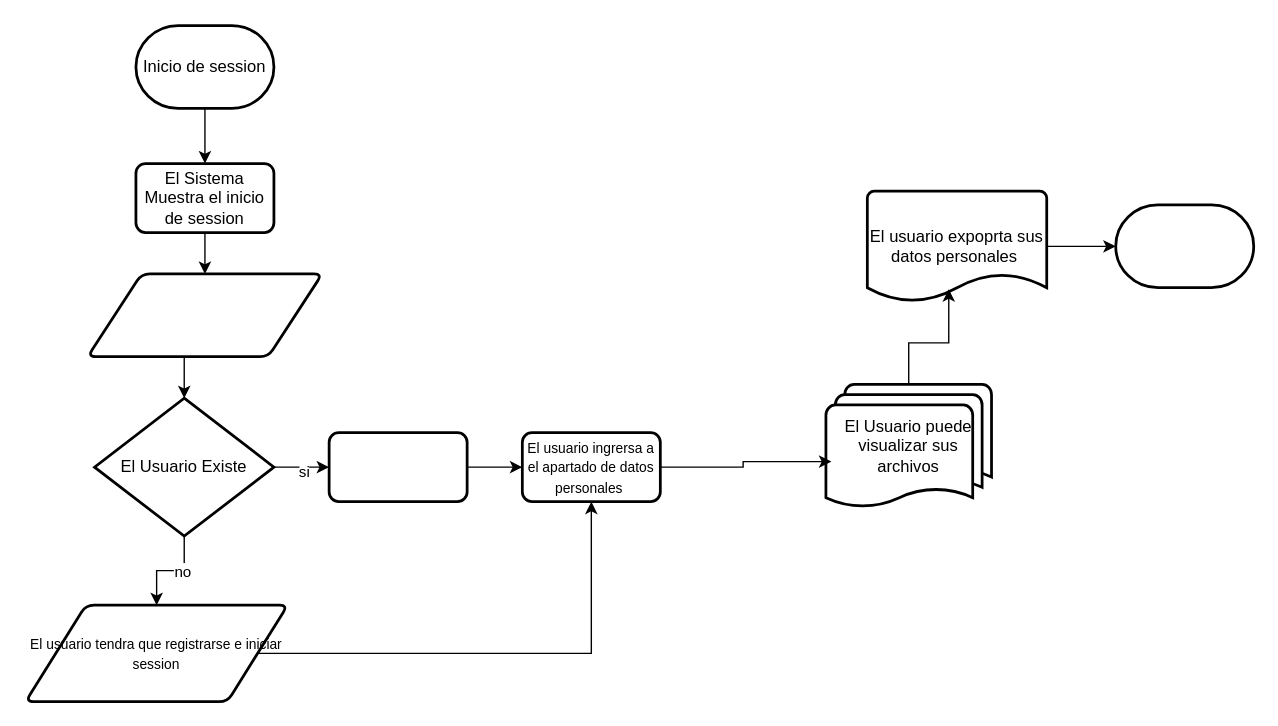
This 1278x726 diagram has some shape labels left out. Each missing label, with the centre of its shape:
"Cierra session" belongs at point 1184,245.
"El usuario ingresa a la app" belongs at point 397,466.
"El usuario ingresa sus datos" belongs at point 204,314.
